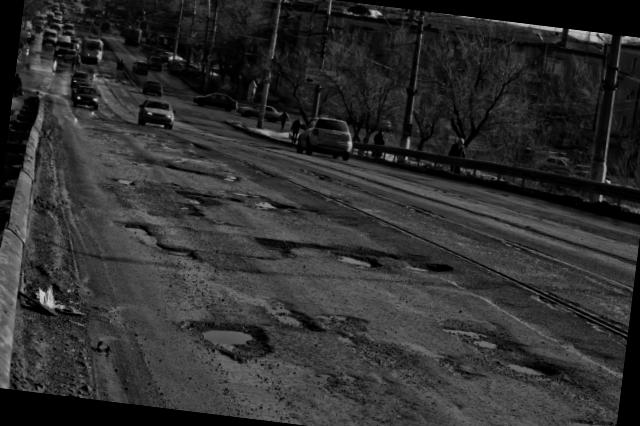Pothole: (438, 309, 570, 398), (178, 305, 291, 378), (110, 213, 205, 270), (242, 235, 309, 272), (332, 243, 381, 281), (402, 252, 462, 283), (238, 190, 298, 219)
